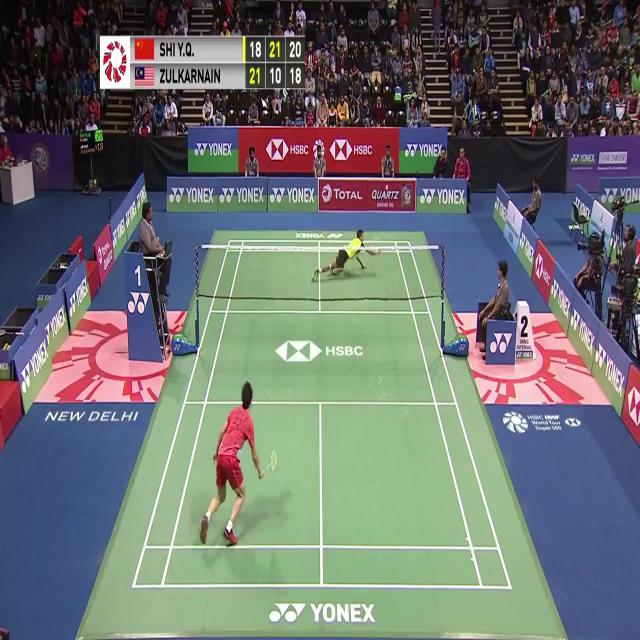Shuttlecock: (384, 181, 390, 192)
